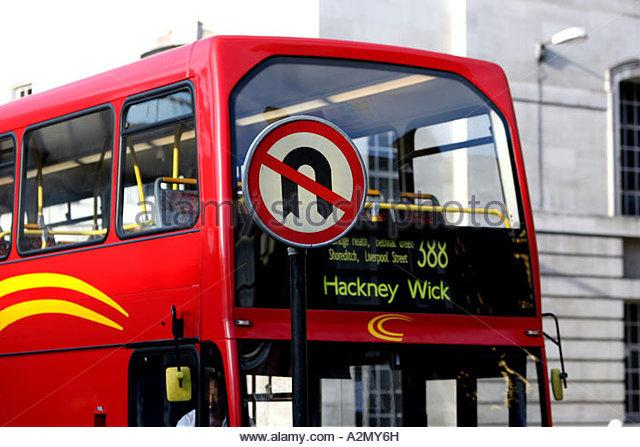no_u_turn: (245, 116, 365, 246)
